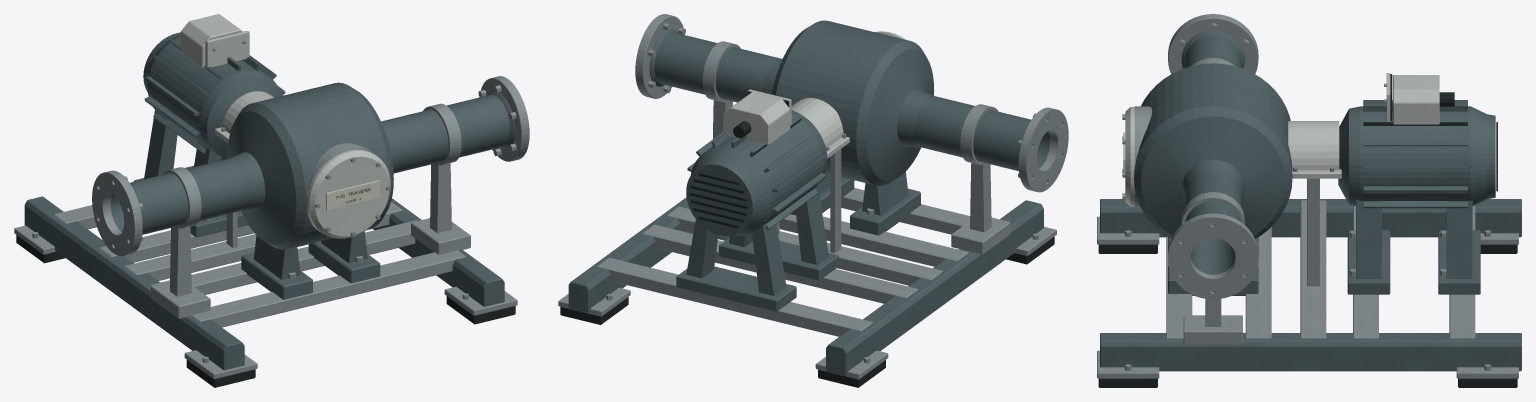
The model's file is AST-ENG-001.glb.
3 views of the same model, side by side, from view 1: azimuth 30°, elevation 25°; view 2: azimuth 150°, elevation 25°; view 3: azimuth 270°, elevation 25° (orthographic). The views are drawn at different scales.
Parts seen in each view (by area): view 1: AST-ENG-001__static__staff_bluegrey_paint, AST-ENG-001__static__staff_zinc, AST-ENG-001__pump_service_cover__staff_white_paint, AST-ENG-001__static__staff_white_paint, AST-ENG-001__static__staff_rubber, AST-ENG-001__pump_service_cover__staff_label, AST-ENG-001__coupling_guard__staff_white_paint; view 2: AST-ENG-001__static__staff_bluegrey_paint, AST-ENG-001__static__staff_zinc, AST-ENG-001__static__staff_rubber, AST-ENG-001__static__staff_white_paint, AST-ENG-001__coupling_guard__staff_white_paint; view 3: AST-ENG-001__static__staff_bluegrey_paint, AST-ENG-001__static__staff_zinc, AST-ENG-001__coupling_guard__staff_white_paint, AST-ENG-001__static__staff_rubber, AST-ENG-001__static__staff_white_paint, AST-ENG-001__pump_service_cover__staff_white_paint.
Part boxes in pixels (x1,y1,x2,y2): AST-ENG-001__static__staff_bluegrey_paint: (24,32,515,370); AST-ENG-001__static__staff_zinc: (14,41,529,379); AST-ENG-001__pump_service_cover__staff_white_paint: (307,149,390,238); AST-ENG-001__static__staff_white_paint: (180,14,249,67); AST-ENG-001__static__staff_rubber: (16,31,515,387); AST-ENG-001__pump_service_cover__staff_label: (326,180,379,210); AST-ENG-001__coupling_guard__staff_white_paint: (215,91,274,143); AST-ENG-001__static__staff_bluegrey_paint: (568,20,1049,375); AST-ENG-001__static__staff_zinc: (558,14,1068,379); AST-ENG-001__static__staff_rubber: (560,91,1054,387); AST-ENG-001__static__staff_white_paint: (723,89,791,144); AST-ENG-001__coupling_guard__staff_white_paint: (791,98,849,158); AST-ENG-001__static__staff_bluegrey_paint: (1100,30,1521,371); AST-ENG-001__static__staff_zinc: (1097,14,1518,378); AST-ENG-001__coupling_guard__staff_white_paint: (1288,121,1341,178); AST-ENG-001__static__staff_rubber: (1098,74,1517,387); AST-ENG-001__static__staff_white_paint: (1386,73,1439,124); AST-ENG-001__pump_service_cover__staff_white_paint: (1125,107,1134,206).
Size of the model in its own units: 1.7 by 0.89 by 1.5.
Materials: 5 (5 with a texture image).
